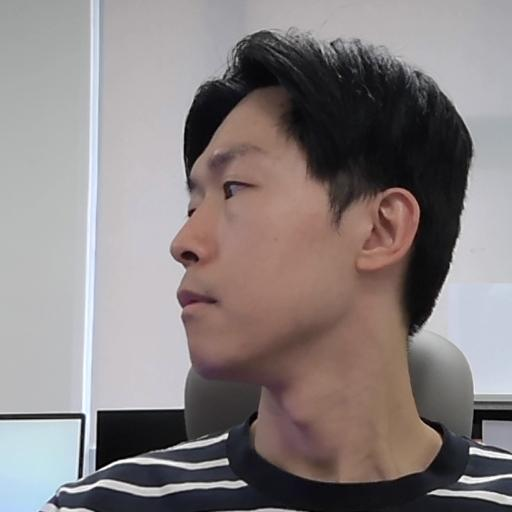no_glasses: (164, 22, 485, 387)
